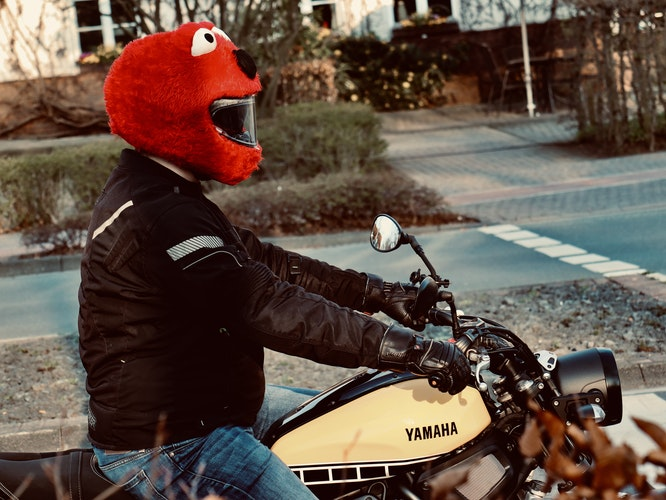helmet: (116, 30, 284, 189)
